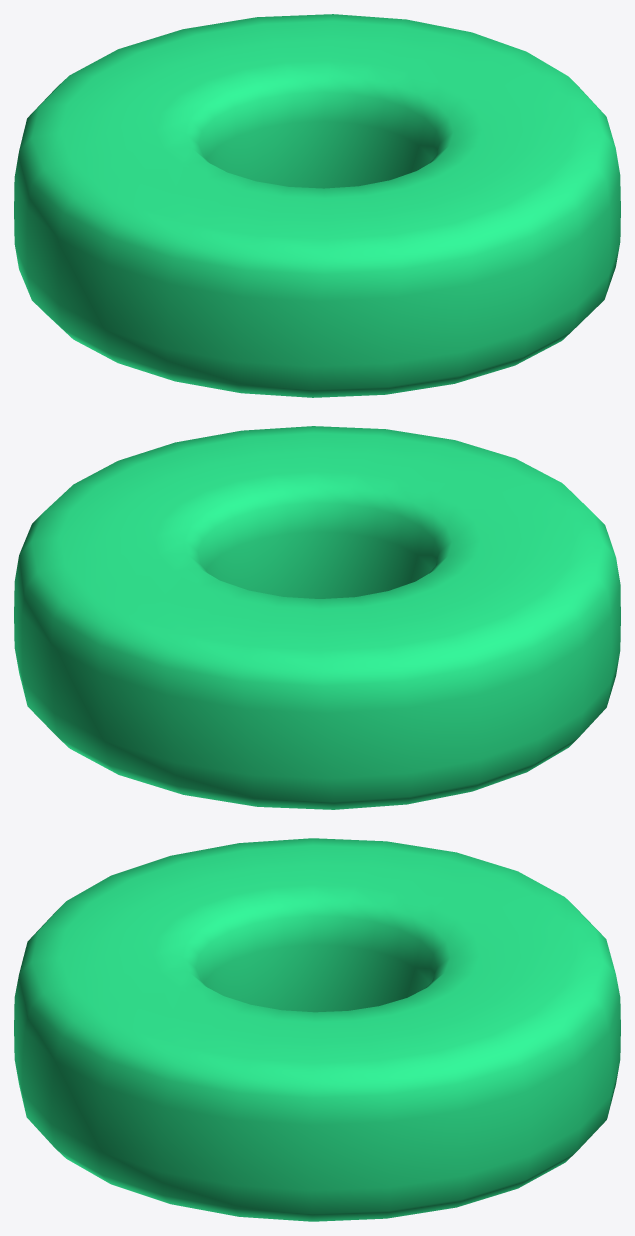
Rendered from Mint_B_01.fbx.
3 views of the same model, one above another, from view 1: azimuth 30°, elevation 25°; view 2: azimuth 150°, elevation 25°; view 3: azimuth 270°, elevation 25° (orthographic).
Visible parts, largest first — view 1: Mint_B_01_LOD0; view 2: Mint_B_01_LOD0; view 3: Mint_B_01_LOD0.
Part boxes in pixels (<box>): Mint_B_01_LOD0: <box>14,14,620,397</box>; Mint_B_01_LOD0: <box>14,426,620,809</box>; Mint_B_01_LOD0: <box>14,838,620,1221</box>.
Size of what is drawn, in the model's own units: 326 by 91.42 by 326.
